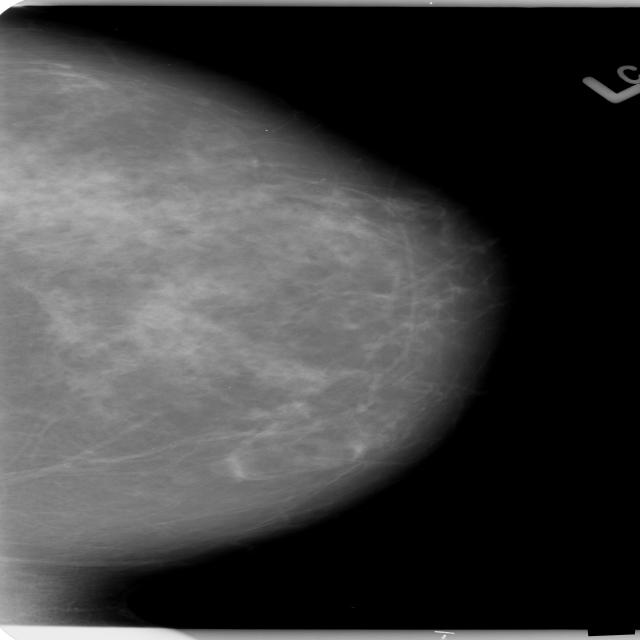normal: (0, 34, 497, 574)
